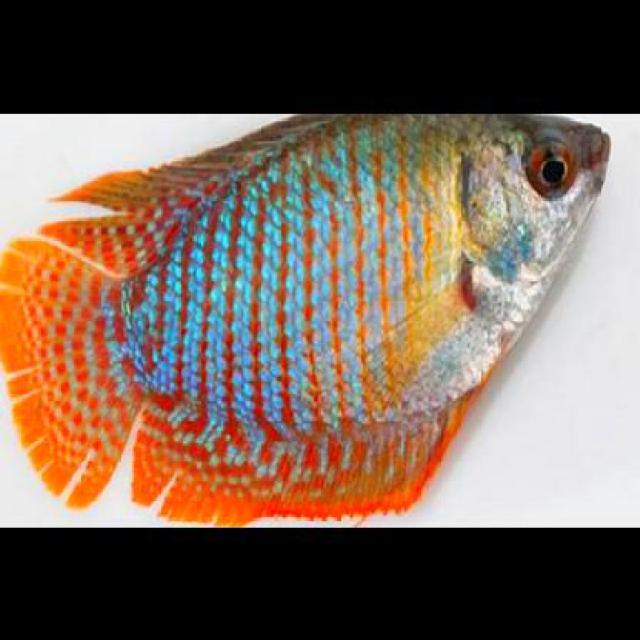Gourami: (0, 110, 611, 528)
